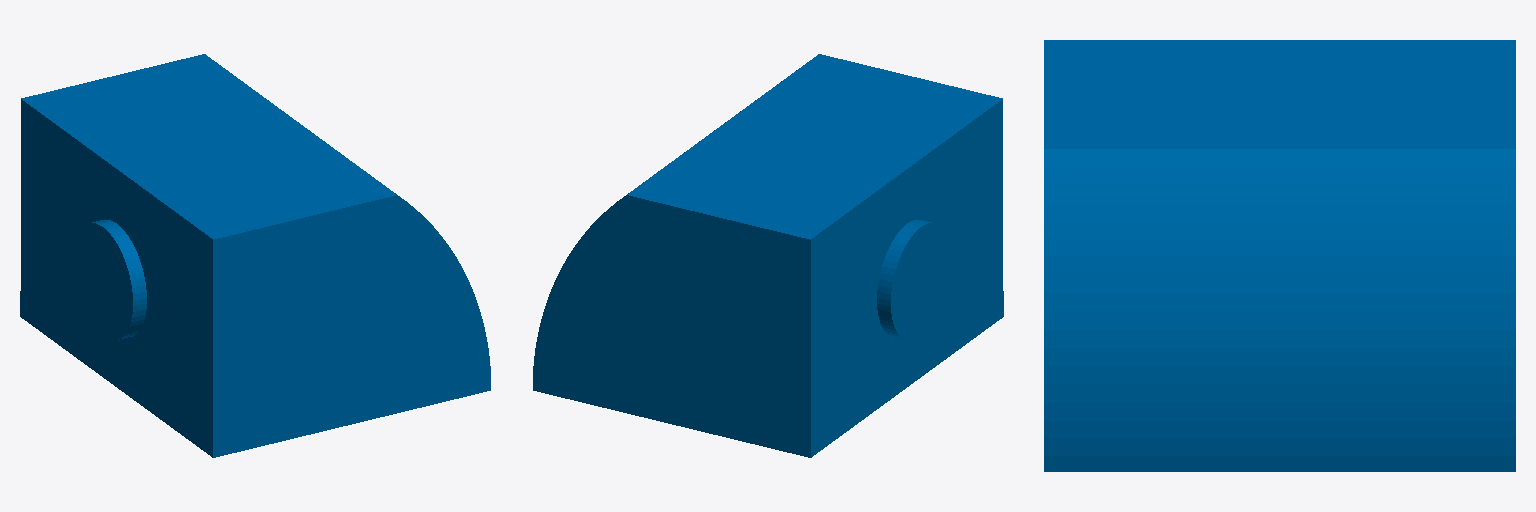
robot.urdf — bucket:
<?xml version="1.0"?>

<robot name="bucket">

  <link name="z_link">
    <visual>
      <!-- <geometry>
        <box size="0.03 10 0.03"/>
      </geometry>
      <material name="slider_mat">
        <color rgba="0.9 0.6 0.2 1"/>
      </material> -->
    </visual>
  </link>

  <joint name="bucket_slider_y" type="prismatic">
    <axis xyz="0 0 1"/>
    <origin xyz="0 0 0"/>
    <parent link="z_link"/>
    <child link="y_link"/>
    <limit effort="1000.0" velocity="100"/>
  </joint>

  <link name="y_link">
    <visual>
      <!-- <geometry>
        <box size="0.03 0.03 10.0"/>
      </geometry>
      <material name="slider_mat">
        <color rgba="0.9 0.6 0.2 1"/>
      </material> -->
    </visual>
  </link>


  <joint name="bucket_slider_z" type="prismatic">
    <axis xyz="0 1 0"/>
    <origin xyz="0 0 0"/>
    <parent link="y_link"/>
    <child link="x_link"/>
    <limit effort="1000.0" velocity="100"/>
  </joint>

  <link name="x_link">
    <visual>
      <!-- <geometry>
        <box size="10 0.03 0.03"/>
      </geometry>
      <material name="slider_mat">
        <color rgba="0.9 0.6 0.2 1"/>
      </material> -->
    </visual>
  </link>

  <joint name="bucket_slider_x" type="prismatic">
    <axis xyz="1 0 0"/>
    <origin xyz="0 0 0"/>
    <parent link="x_link"/>
    <child link="ee_link"/>
    <limit effort="1000.0" velocity="100"/>
  </joint>

  <link name="ee_link">
    <visual>
      <geometry>
        <ball size="0.1 0.1 0.1"/>
      </geometry>
      <material name="slider_mat">
        <color rgba="0.9 0.6 0.2 1"/>
      </material>
    </visual>
  </link>

  <joint name="bucket_joint_r" type="continuous">
    <axis xyz="1 0 0"/>
    <origin xyz="0 0 0"/>
    <parent link="ee_link"/>
    <child link="bucket_link"/>
    <limit effort="1000.0" velocity="100"/>
  </joint>
  
  <link name="bucket_link">
    <visual>
      <geometry>
        <mesh filename="package://bucket_description/meshes/visual/bucket.dae"/>
      </geometry>
      <origin rpy="0 -1.57 0" xyz="0 0 0"/>
    </visual>
    <collision>
      <geometry>
        <mesh filename="package://bucket_description/meshes/collision/bucket.stl"/>
      </geometry>
      <origin rpy="-1.57 -1.57 0" xyz="0 0 0"/>
    </collision>
  </link>


</robot>

--- What the picture shows (computed from the rendered views, not written in the file) ---
Views: 3 orthographic renders of the robot side by side, from view 1: azimuth 30°, elevation 25°; view 2: azimuth 150°, elevation 25°; view 3: azimuth 270°, elevation 25°.
Robot: bucket — 5 links, 4 joints (1 continuous, 3 prismatic); root link z_link; default pose: all joints at 0.
Links seen in each view (by area): view 1: bucket_link; view 2: bucket_link; view 3: bucket_link.
Boxes of the visible links, x1,y1,x2,y2 form: bucket_link: [20, 54, 490, 457]; bucket_link: [533, 54, 1003, 457]; bucket_link: [1044, 40, 1515, 471].
Bounding box of the posed robot: 0.21 × 0.24 × 0.1502 m (x, y, z).
Meshes: 1 distinct files referenced, 1 mesh visuals loaded (1 Collada DAE).